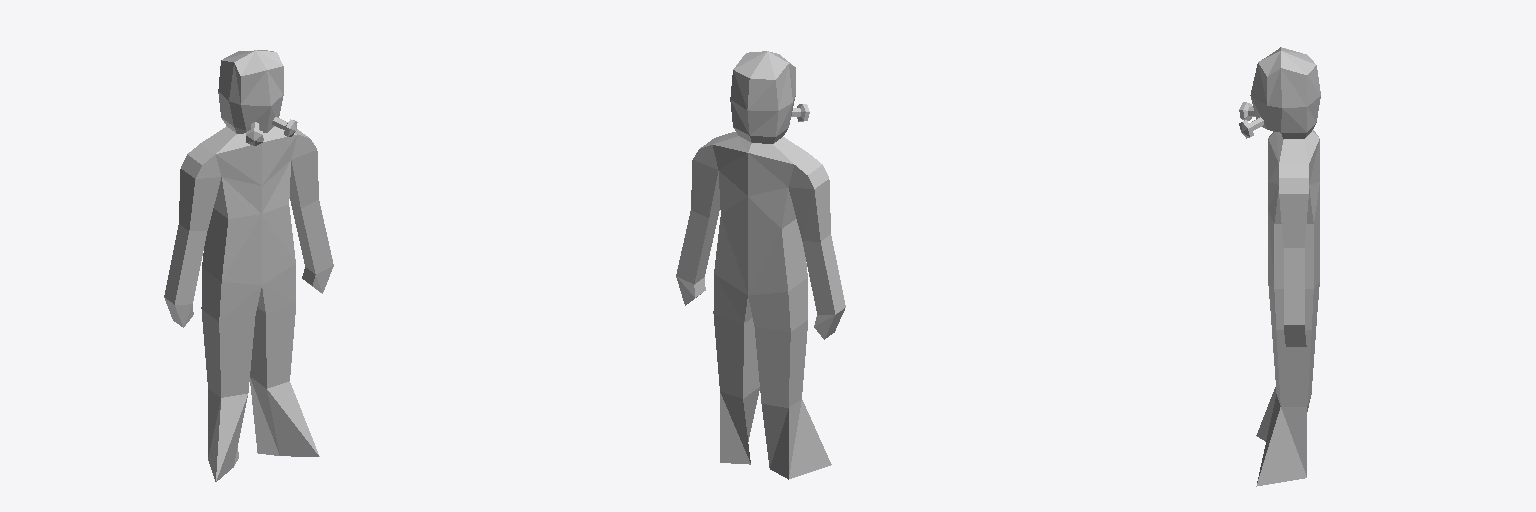
The model's file is human_base.obj.
3 views of the same model, side by side, from view 1: azimuth 30°, elevation 25°; view 2: azimuth 150°, elevation 25°; view 3: azimuth 270°, elevation 25° (orthographic).
Visible parts, largest first — view 1: Body; view 2: Body; view 3: Body.
Boxes of the visible parts, x1,y1,x2,y2 form: Body: [164, 50, 333, 481]; Body: [676, 51, 845, 479]; Body: [1250, 47, 1320, 486].
Size of the model in its own units: 0.9348 by 2.3 by 0.4178.